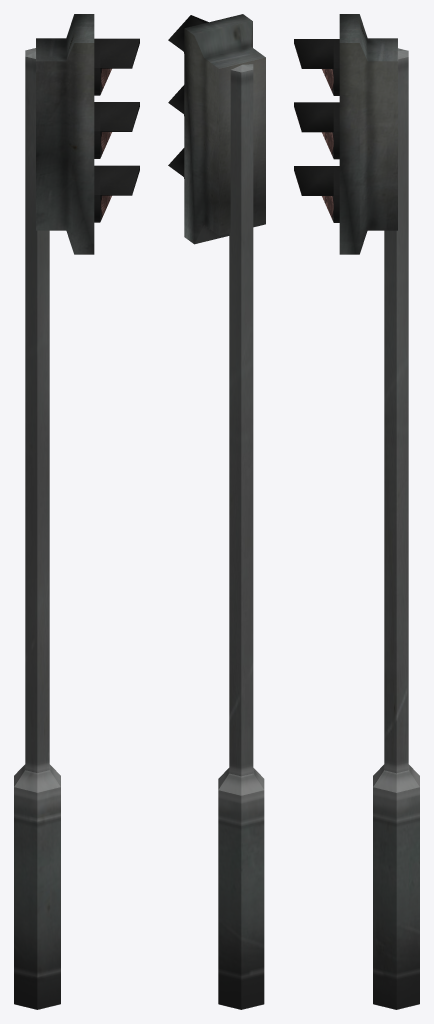
Rendered from PFB-Racing-Track-Assets-01-Traffic-Light-Medium.fbx.
The picture shows the model from 3 angles, left to right: view 1: azimuth 90°, elevation 25°; view 2: azimuth 210°, elevation 25°; view 3: azimuth 270°, elevation 25°; orthographic projection.
Visible parts, largest first — view 1: traffic_light_M_pole, traffic_light_M_lights; view 2: traffic_light_M_pole, traffic_light_M_lights; view 3: traffic_light_M_pole, traffic_light_M_lights.
Boxes of the visible parts, left/top/right/bottom form: traffic_light_M_pole: left=14, top=48, right=60, bottom=1009; traffic_light_M_lights: left=36, top=14, right=139, bottom=254; traffic_light_M_pole: left=218, top=64, right=264, bottom=1009; traffic_light_M_lights: left=168, top=14, right=265, bottom=244; traffic_light_M_pole: left=373, top=48, right=419, bottom=1009; traffic_light_M_lights: left=294, top=14, right=397, bottom=254.
Bounding box in the file's own units: 3.69 × 57.54 × 6.76.
